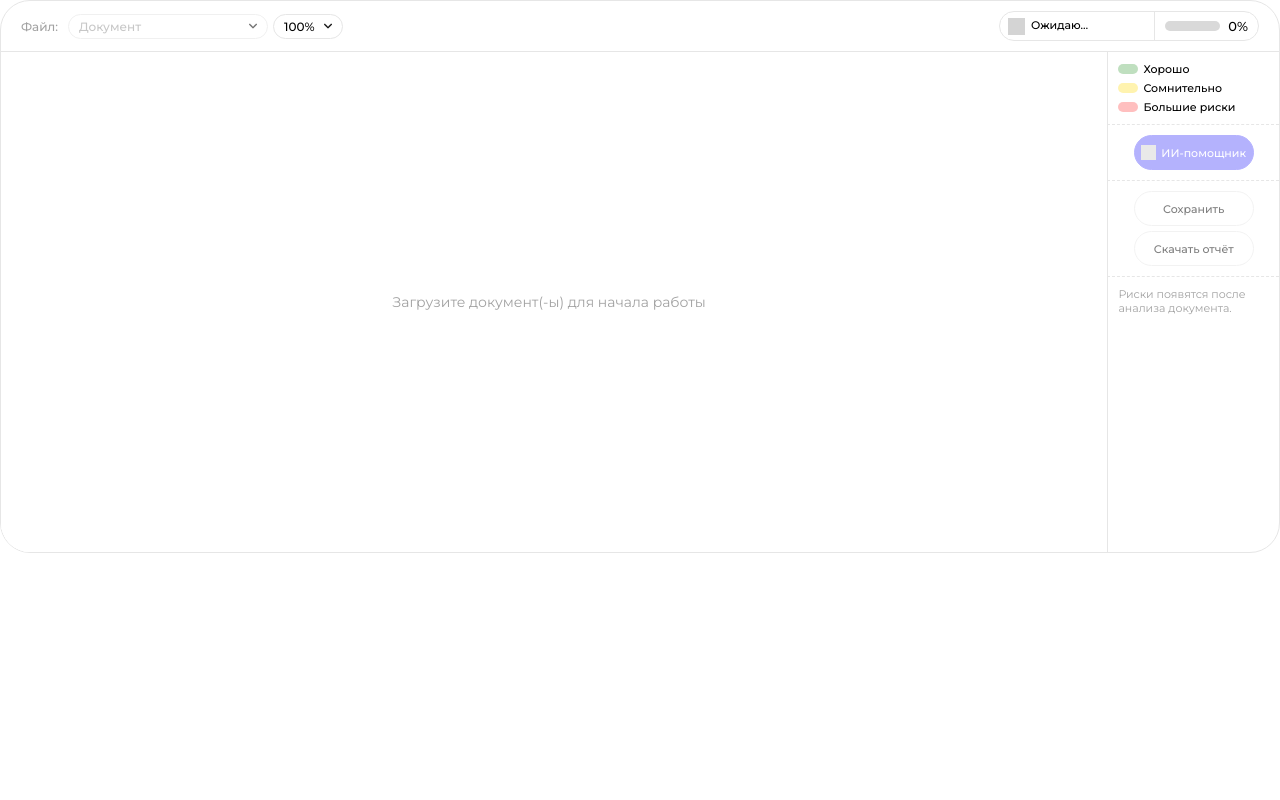
it: AnalysisResult — размер текста › slider обновляет процент и CSS-переменную --preview-font-scale
Click the element with class "analysis__font-size-selector" at (308, 26), box [273, 14, 343, 38]
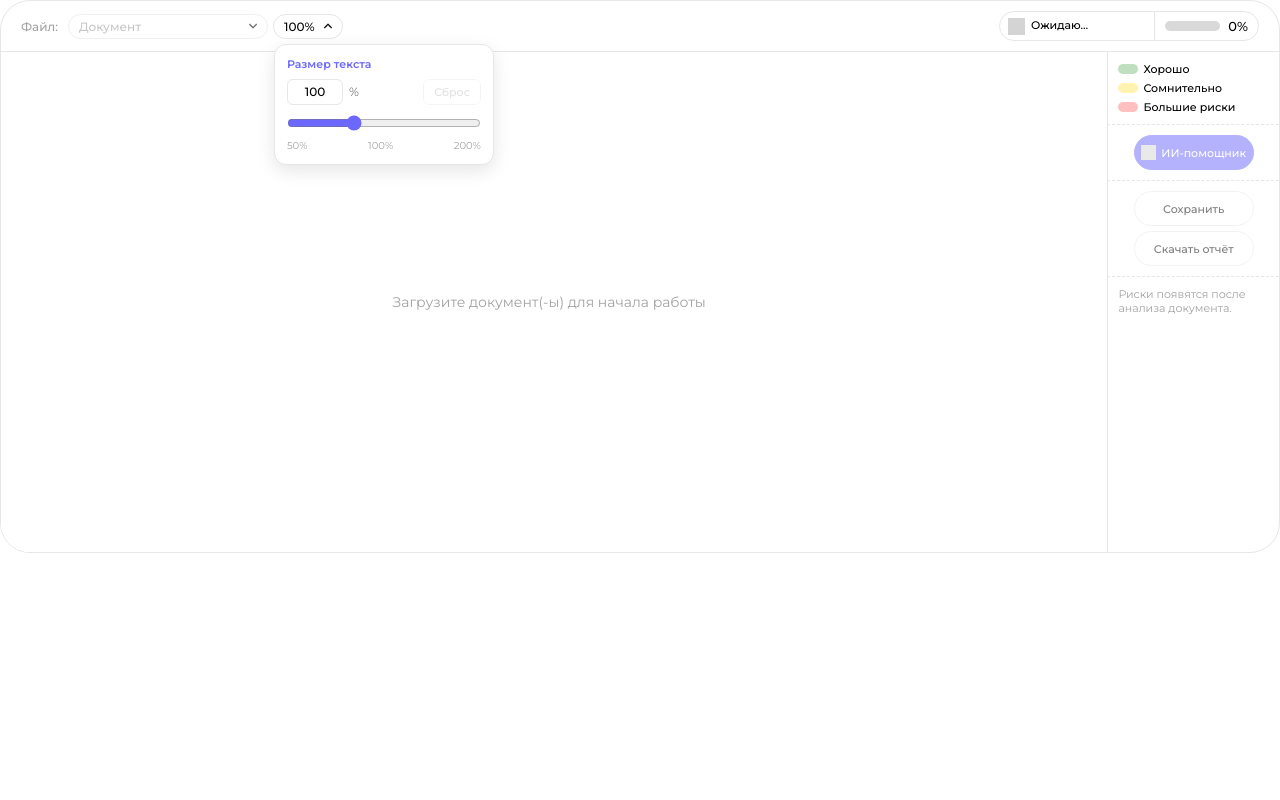
Set the slider with class "font-size-popover__slider" to "150" at (414, 122), box [287, 114, 481, 130]
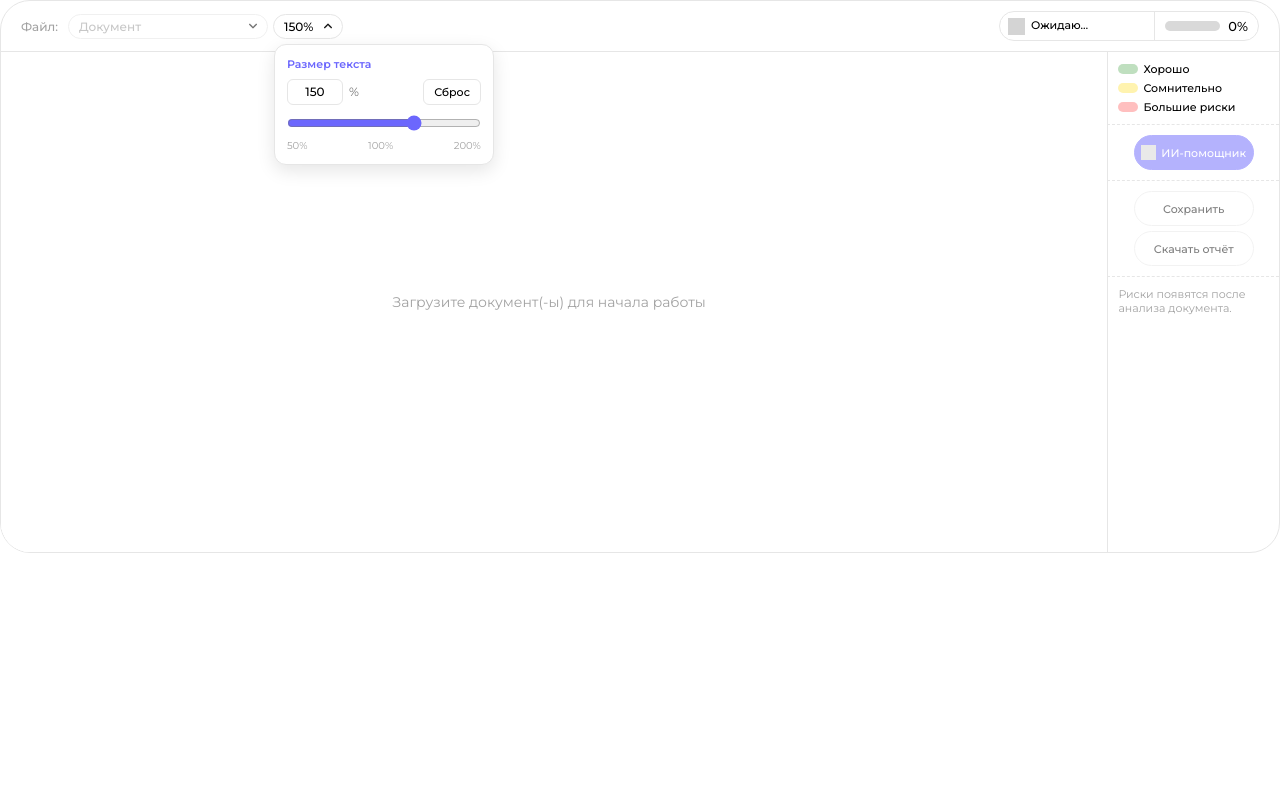
Result: the text with class "font-size-selector__size" reads "150%" at [284, 18, 313, 34]
